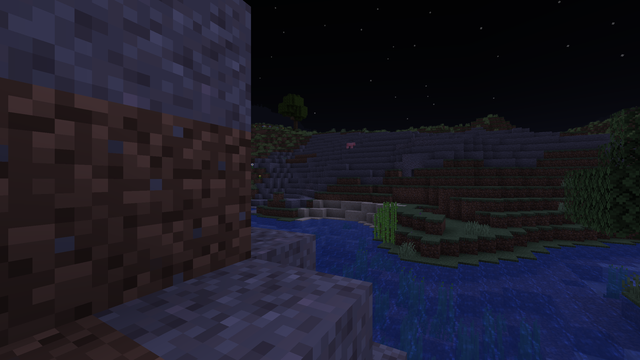cochons: (346, 142, 352, 148)
